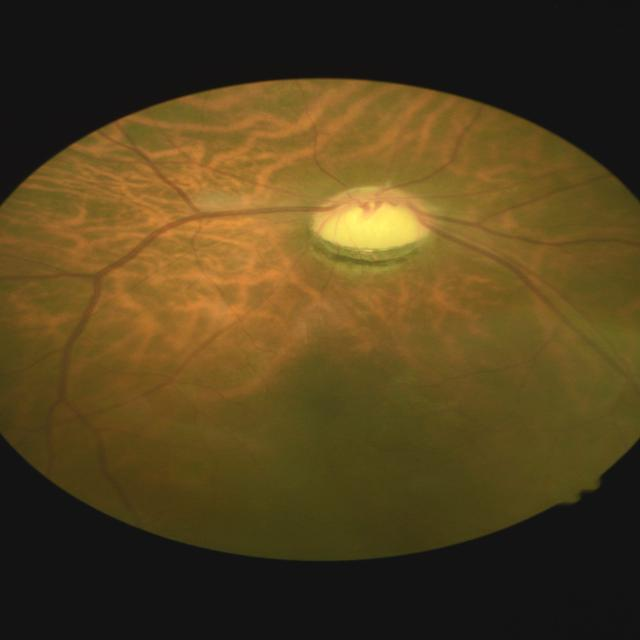cup: (323, 197, 419, 247)
disk: (311, 188, 431, 250)
